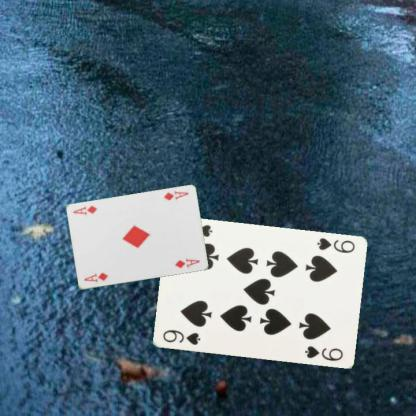9s: (314, 235, 356, 255), (160, 327, 201, 347)
Ad: (81, 270, 109, 284), (161, 188, 189, 202)
